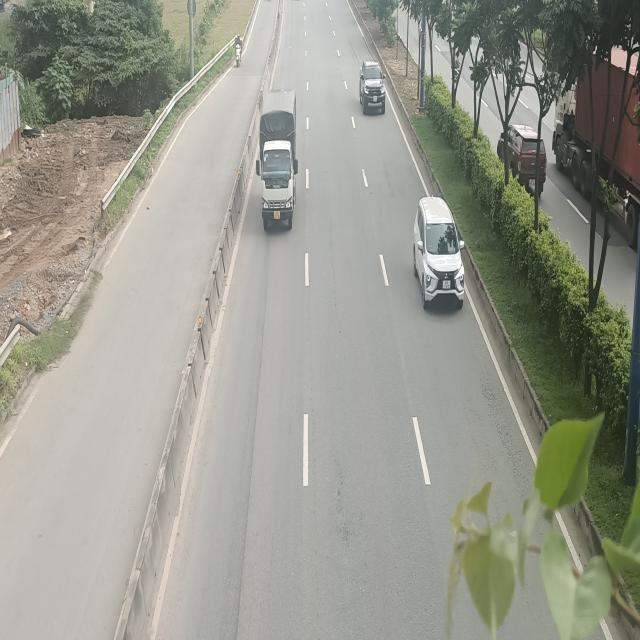car: (413, 195, 465, 308), (358, 61, 385, 116)
truck: (257, 88, 299, 230)
